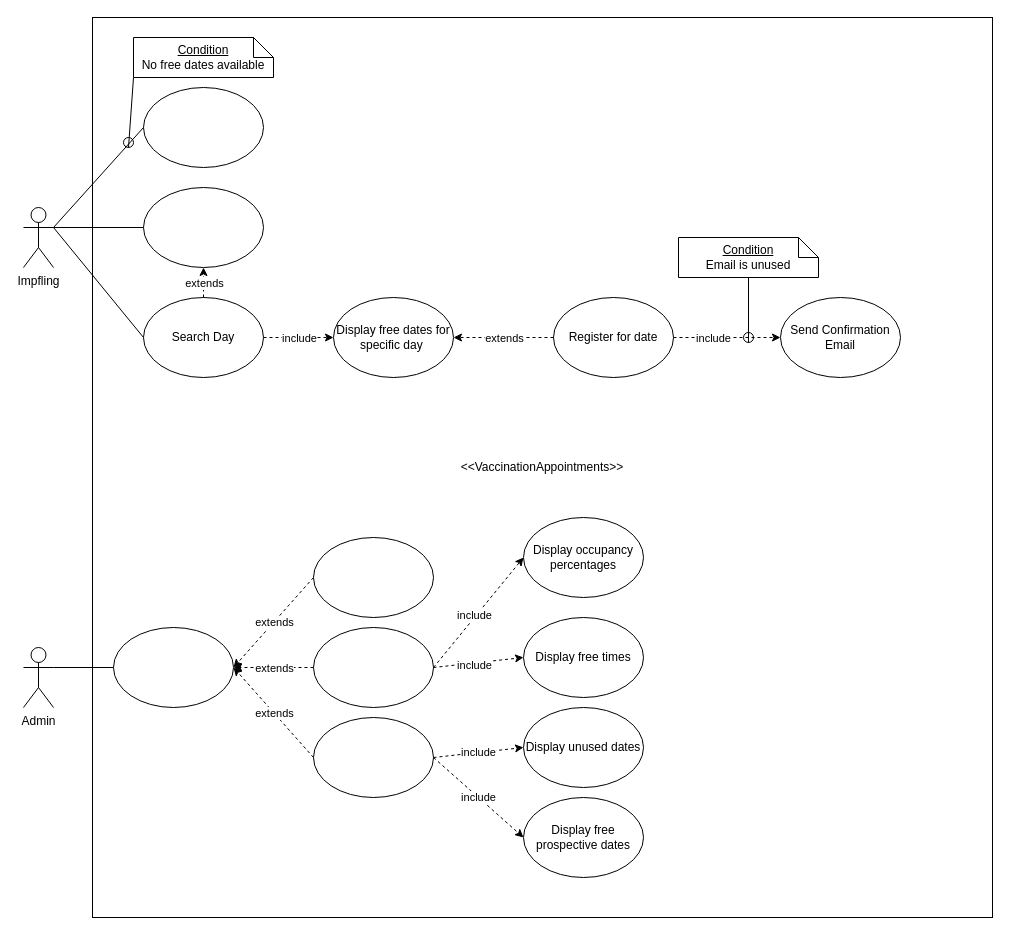
Some shapes in this 1010 by 935 pixel diagram are drawn without their labels. The shapes that lost their labels are listed below. From the top down, each one's centre as x and y in pixels, then its label:
At point 203,127: "Register in waiting list".
At point 203,227: "Overview free dates of all days".
At point 373,577: "Create Appointments".
At point 173,667: "Login".
At point 373,667: "Select Day to display".
At point 373,757: "View Statistics".
